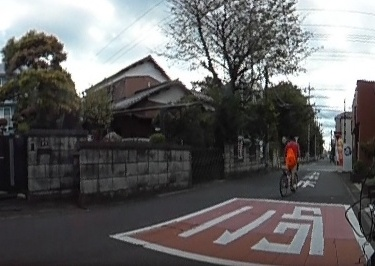person: (282, 134, 300, 179)
